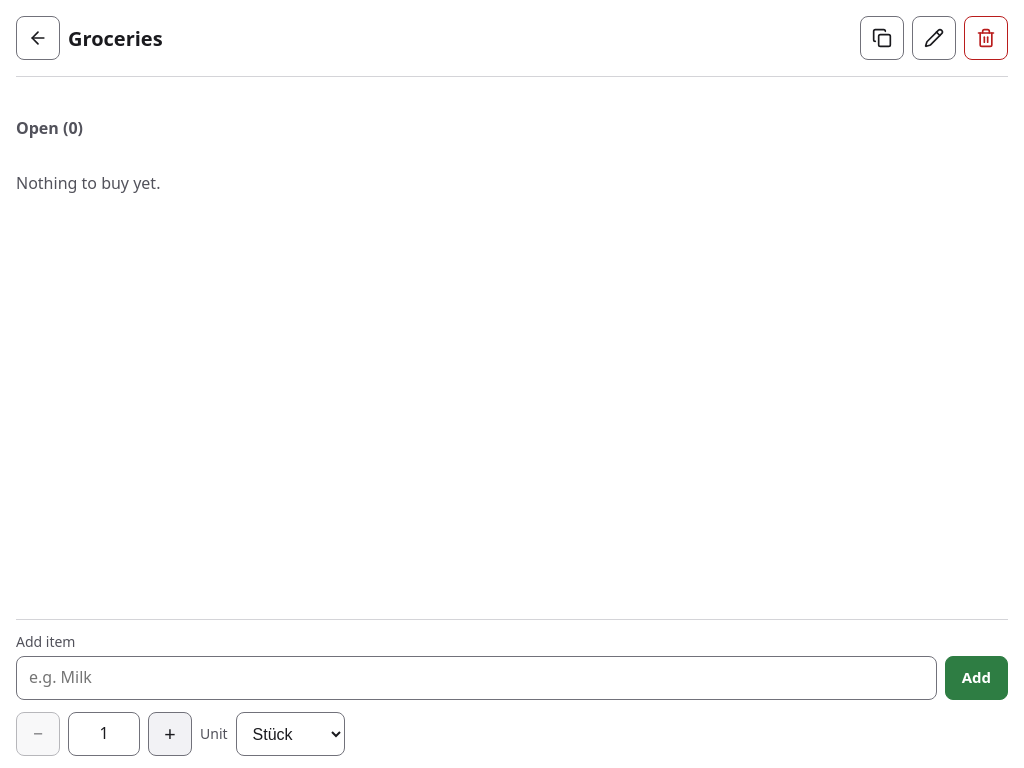
ListDetail item attribution › attributes an optimistically added item to the viewer
In the field labelled "Add item": (476, 678) [16,656,937,700], type "Eggs"
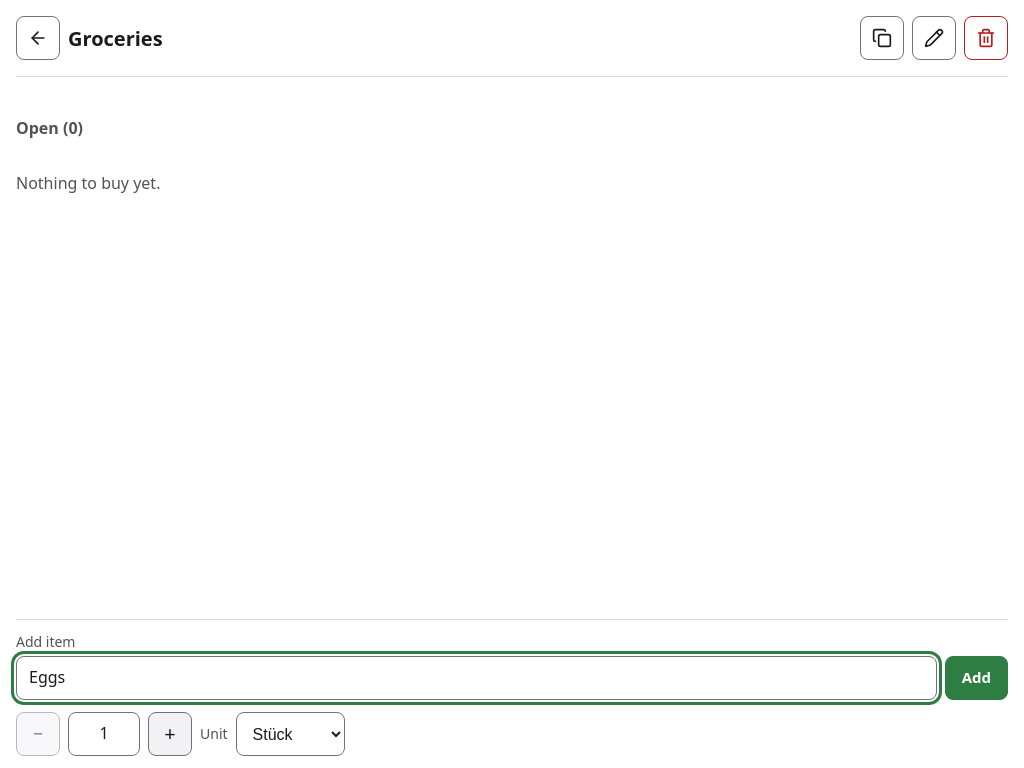
Click the button "Add": (976, 678) [945,656,1008,700]
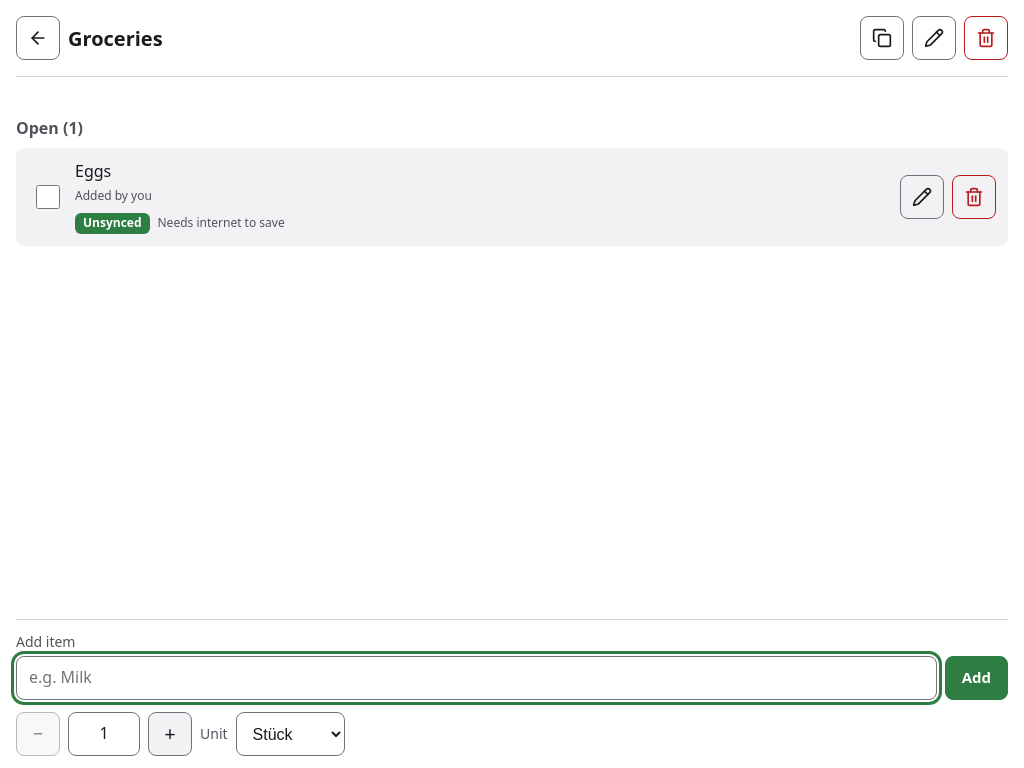
Check: the text "Added by you" is shown, box [75,187,152,204]
